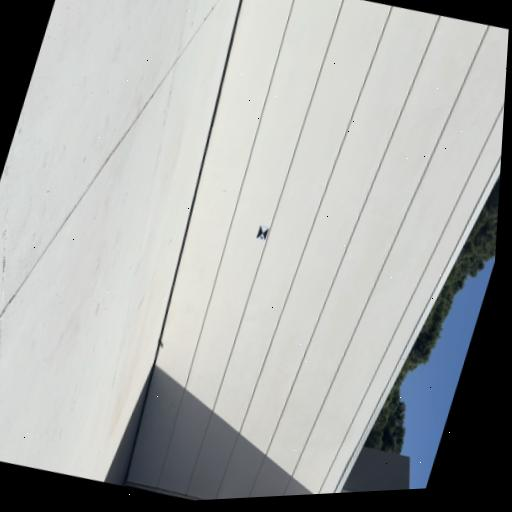target7: (256, 224, 270, 242)
